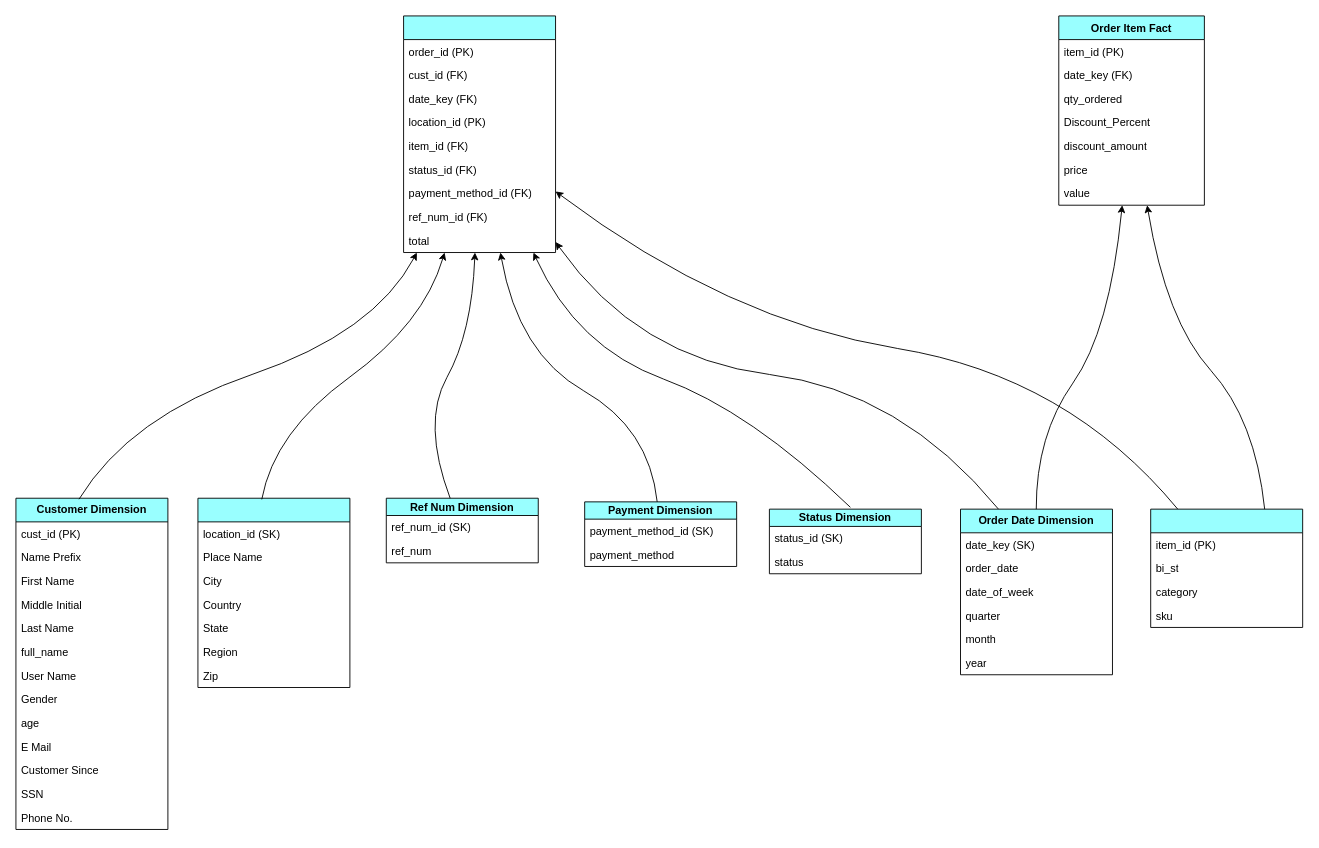
Image size: 1319x848. Some labels were removed from this diagram. Each missing label, with the box of its shape:
Item Dimension: (1150, 508, 1303, 627)
Location Dimension: (197, 497, 350, 688)
Order Transacstion Fact: (403, 15, 556, 253)
